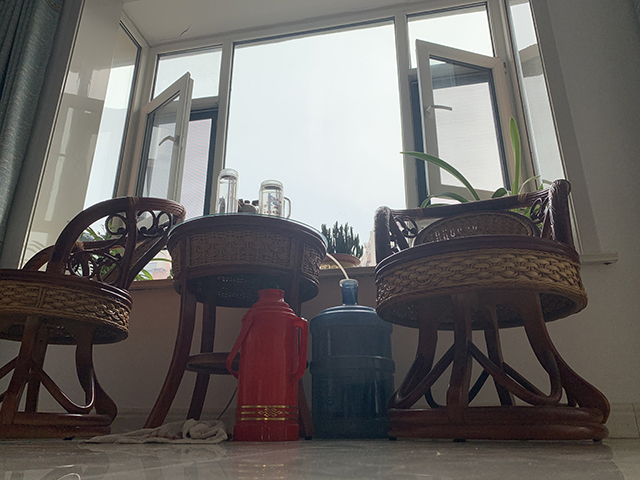stool: (372, 174, 610, 445), (1, 195, 187, 441)
table: (143, 211, 330, 441)
